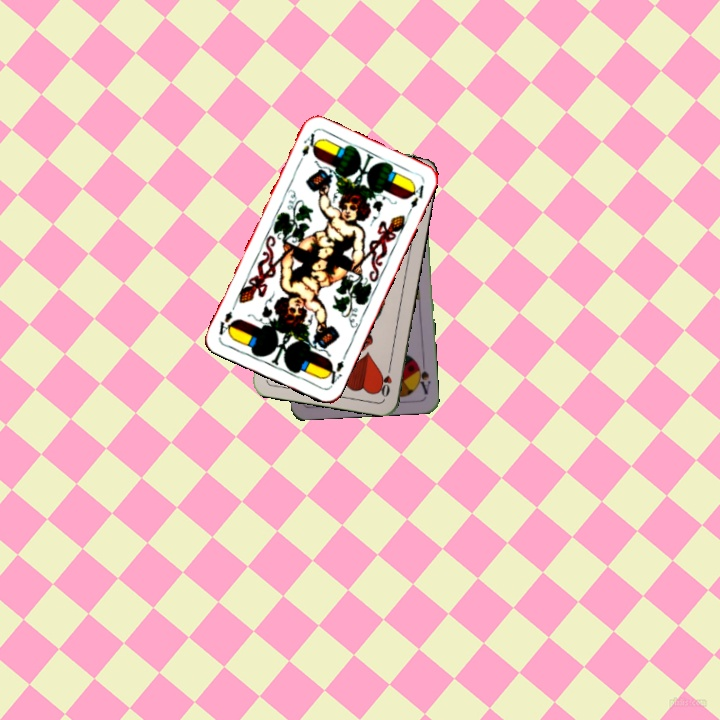EA: (321, 350, 349, 386), (294, 129, 319, 167)
HO: (376, 360, 394, 399)
SA: (413, 357, 433, 397)
